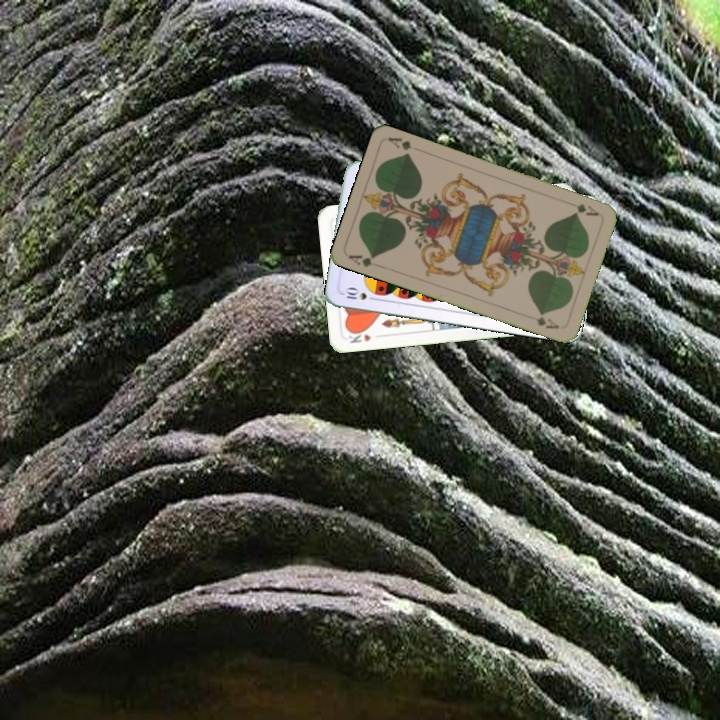GA: (563, 198, 602, 218), (344, 250, 379, 270)
HK: (343, 326, 374, 346)
S10: (342, 284, 380, 303)
